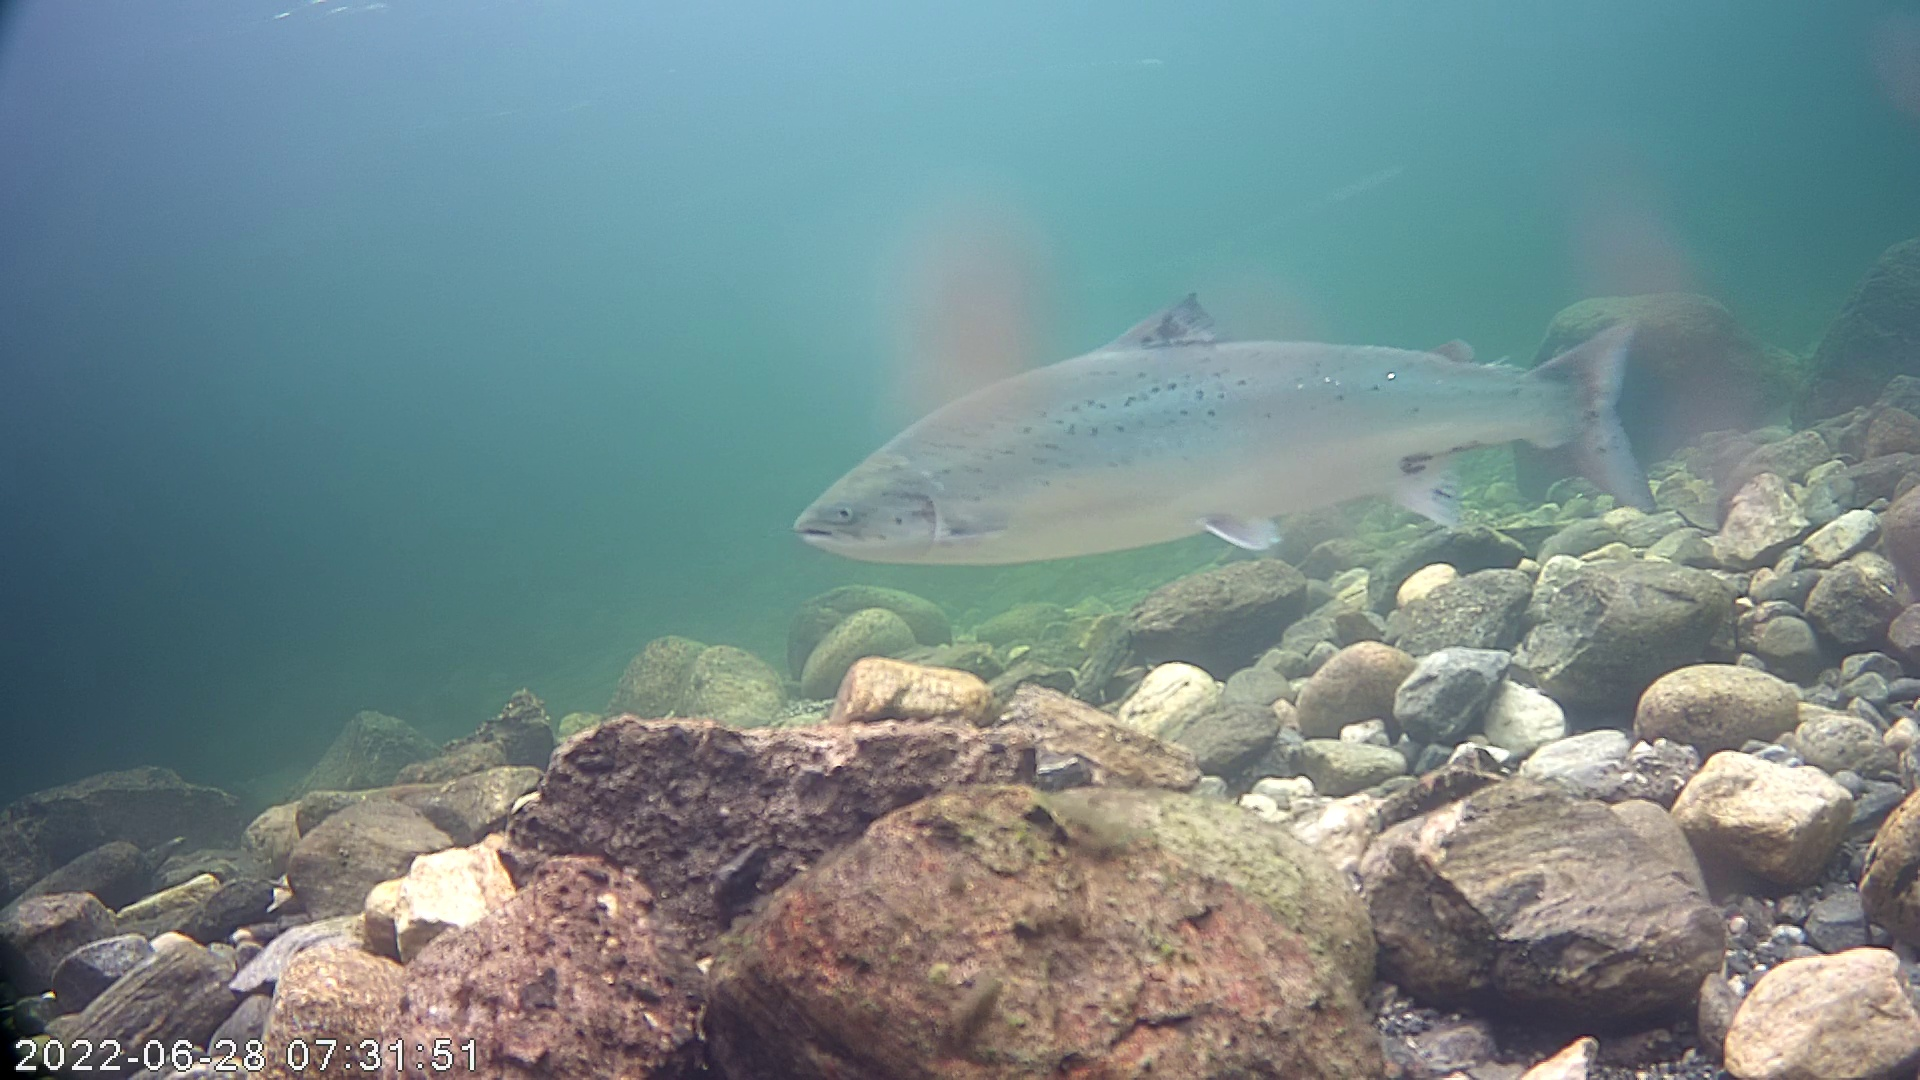salmon: (786, 208, 1676, 616)
